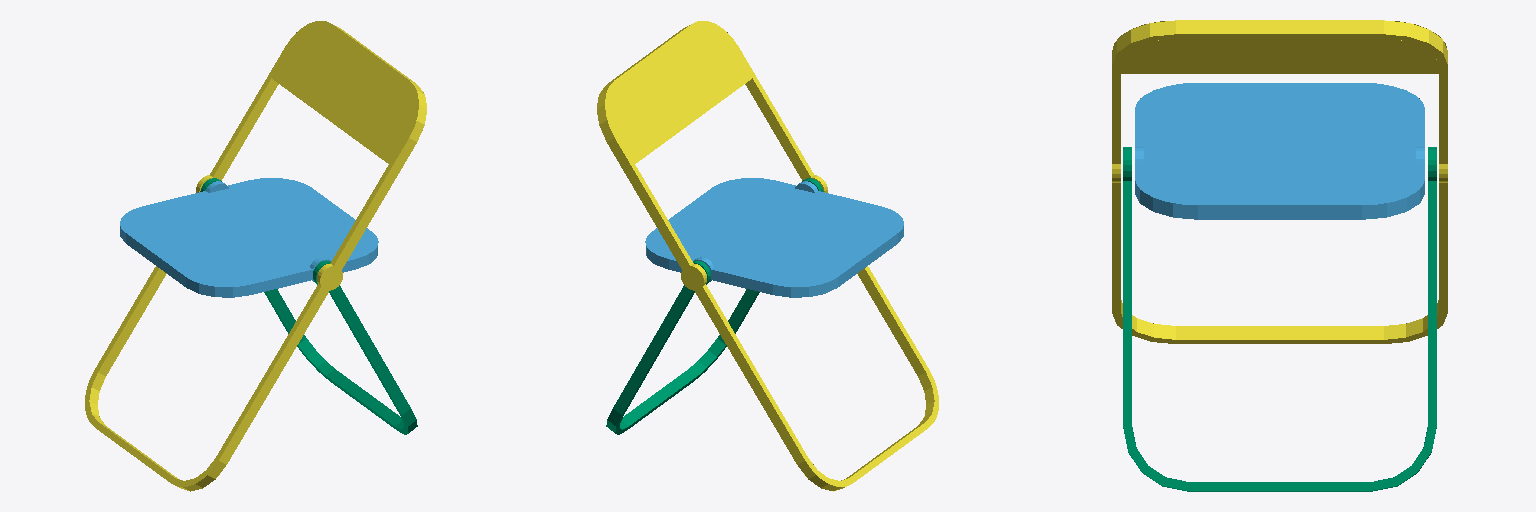
URDF robot description (partnet_77343b3052c4c5d0492d9da2668ec34c):
<?xml version="1.0" ?>
<robot name="partnet_77343b3052c4c5d0492d9da2668ec34c">
	<link name="base"/>
	<link name="link_0">
		<visual name="seat-1">
			<origin xyz="0 -0.0191501722664436 -0.02939885926269495"/>
			<geometry>
				<mesh filename="textured_objs/original-3.obj"/>
			</geometry>
		</visual>
		<collision>
			<origin xyz="0 -0.0191501722664436 -0.02939885926269495"/>
			<geometry>
				<mesh filename="textured_objs/original-3.obj"/>
			</geometry>
		</collision>
	</link>
	<joint name="joint_0" type="revolute">
		<origin xyz="0 0.0191501722664436 0.02939885926269495"/>
		<axis xyz="-1 0 0"/>
		<child link="link_0"/>
		<parent link="link_1"/>
		<limit lower="-0.0" upper="1.086991058142069"/>
	</joint>
	<link name="link_1">
		<visual name="backlegs-2">
			<origin xyz="0 0 0"/>
			<geometry>
				<mesh filename="textured_objs/original-2.obj"/>
			</geometry>
		</visual>
		<collision>
			<origin xyz="0 0 0"/>
			<geometry>
				<mesh filename="textured_objs/original-2.obj"/>
			</geometry>
		</collision>
	</link>
	<joint name="joint_1" type="fixed">
		<origin rpy="1.570796326794897 0 -1.570796326794897" xyz="0 0 0"/>
		<child link="link_1"/>
		<parent link="base"/>
	</joint>
	<link name="link_2">
		<visual name="base_body-3">
			<origin xyz="0 -0.0191501722664436 -0.02939885926269495"/>
			<geometry>
				<mesh filename="textured_objs/original-1.obj"/>
			</geometry>
		</visual>
		<collision>
			<origin xyz="0 -0.0191501722664436 -0.02939885926269495"/>
			<geometry>
				<mesh filename="textured_objs/original-1.obj"/>
			</geometry>
		</collision>
	</link>
	<joint name="joint_2" type="revolute">
		<origin xyz="0 0.0191501722664436 0.02939885926269495"/>
		<axis xyz="1 0 0"/>
		<child link="link_2"/>
		<parent link="link_1"/>
		<limit lower="0.0" upper="1.1184069846779663"/>
	</joint>
</robot>

--- What the picture shows (computed from the rendered views, not written in the file) ---
Views: 3 orthographic renders of the robot side by side, from view 1: azimuth 30°, elevation 25°; view 2: azimuth 150°, elevation 25°; view 3: azimuth 270°, elevation 25°.
Model partnet_77343b3052c4c5d0492d9da2668ec34c with 4 links and 3 joints (2 revolute, 1 fixed), rooted at base, posed all joints at 0.
Links seen in each view (by area): view 1: link_2, link_0, link_1; view 2: link_2, link_0, link_1; view 3: link_0, link_2, link_1.
Boxes of the visible links, x1,y1,x2,y2 form: link_2: (85,21,426,491); link_0: (120,178,378,297); link_1: (200,178,417,434); link_2: (597,21,938,491); link_0: (645,178,903,297); link_1: (606,178,823,434); link_0: (1135,83,1424,219); link_2: (1112,20,1447,343); link_1: (1123,147,1436,491).
Bounding box of the posed robot: 1.04 × 0.9036 × 1.41 m (x, y, z).
3 mesh visuals loaded from 3 distinct referenced files (3 OBJ).
